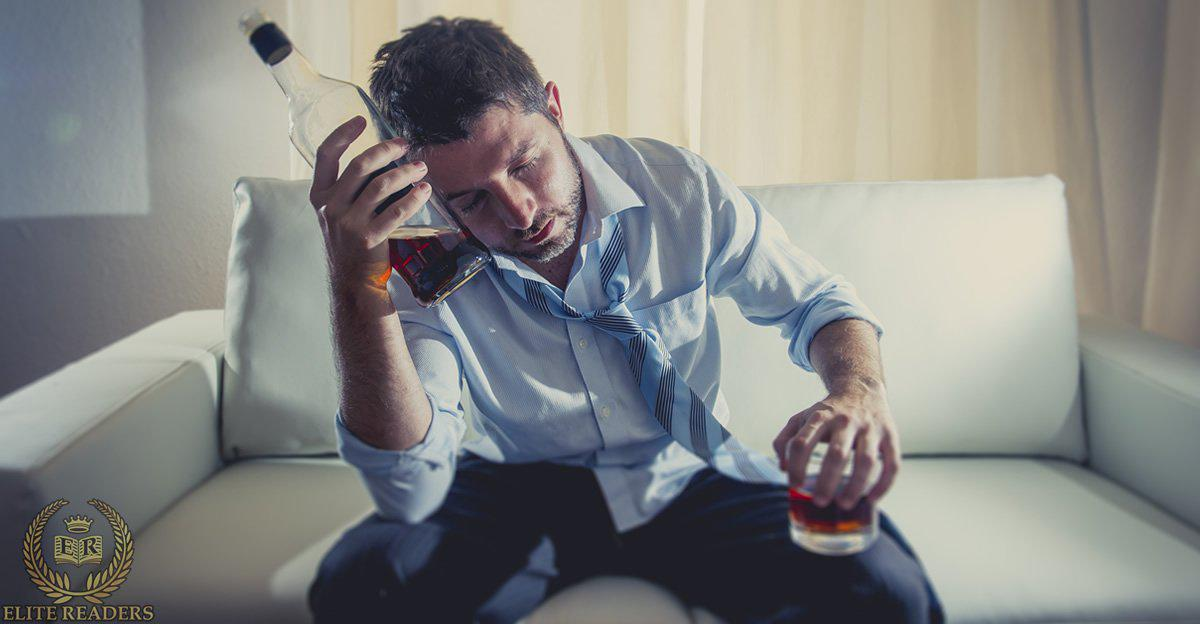Drunk: (421, 99, 581, 260)
